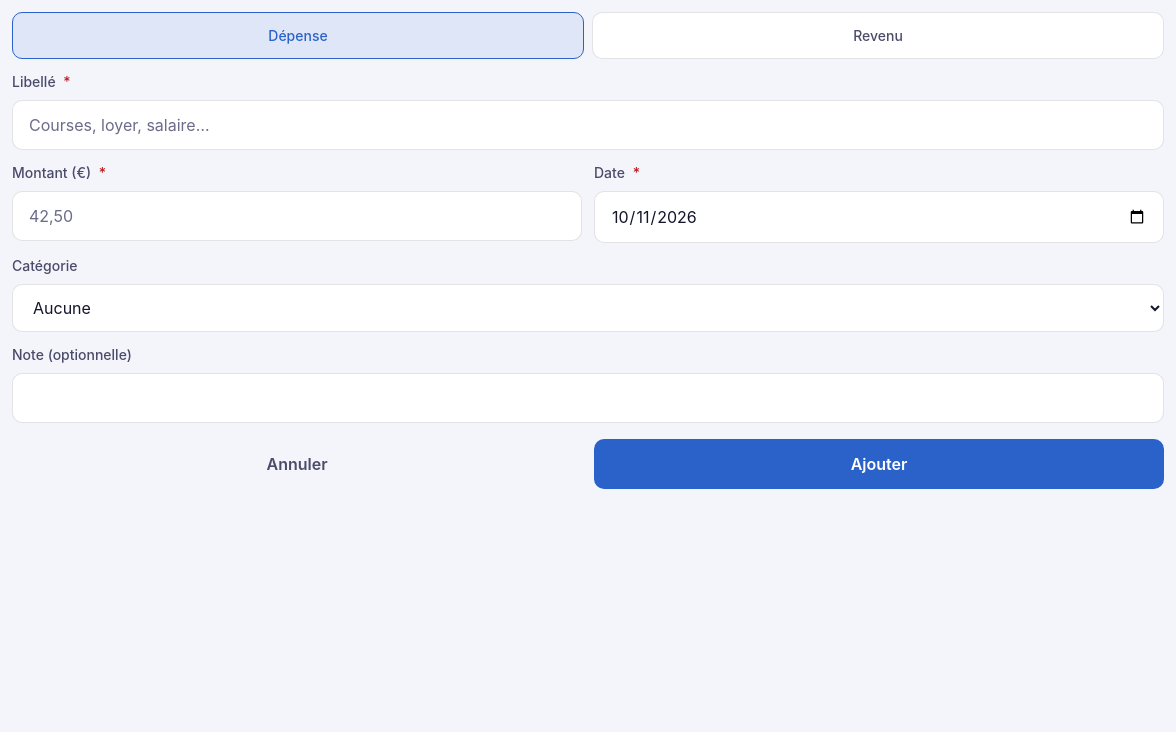
Scenario: TransactionForm — pas de date avant le mois de création du compte › refuse une date antérieure sans appeler l'API
This screenshot has width=1176, height=732.
Type "Courses" into the field with id "transaction-title".
click(588, 125); type("Courses")  # box [12,100,1164,150]
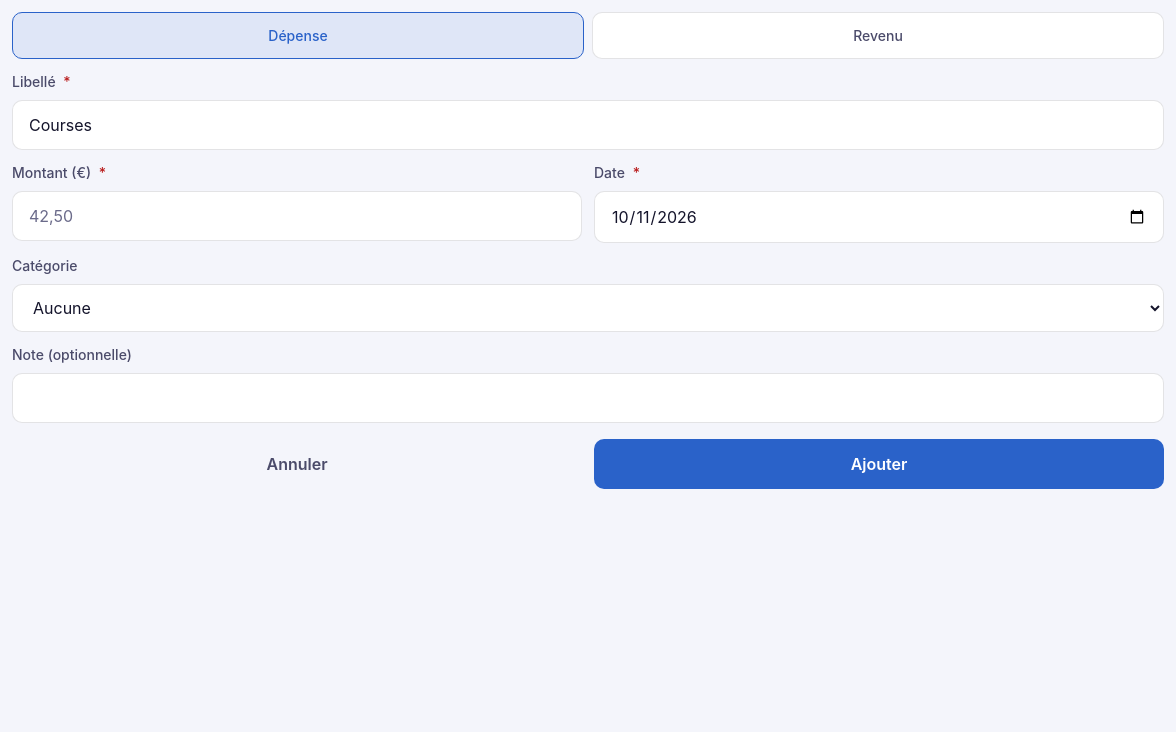
Type "12,50" into the field with id "transaction-amount".
click(297, 216); type("12,50")  # box [12,191,582,241]
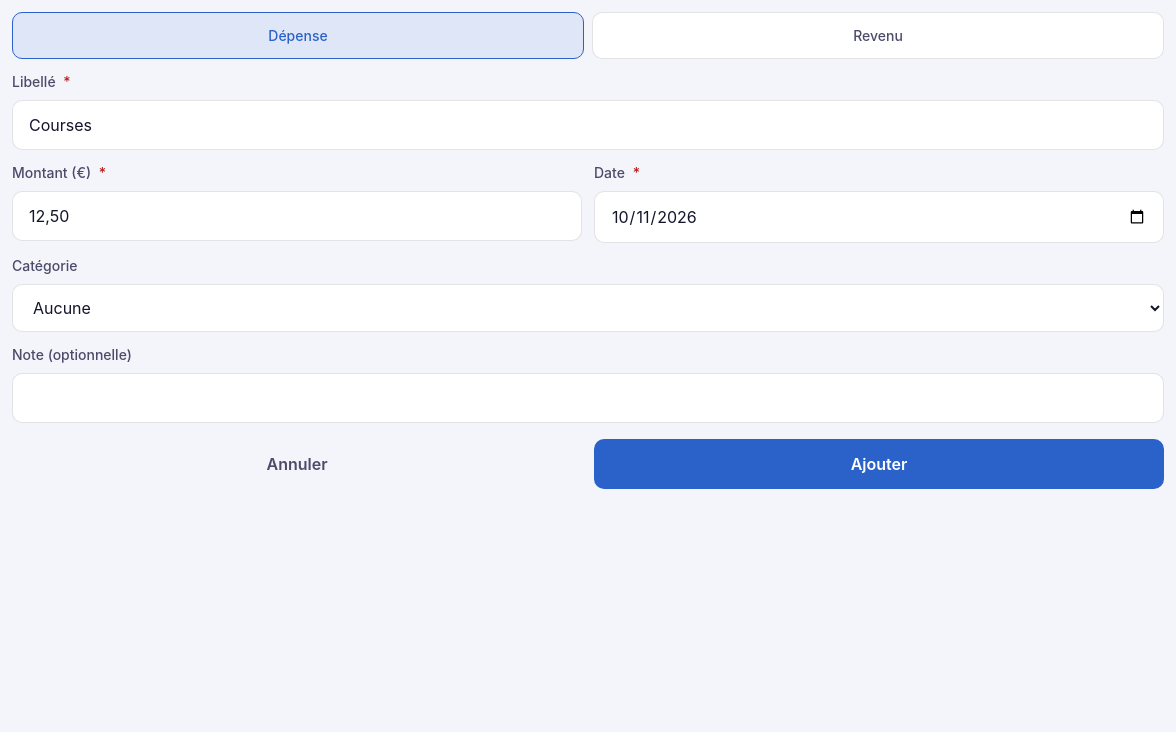
Type "2026-09-30" into the date field with id "transaction-date".
click(879, 217); type("2026-09-30")  # box [594,191,1164,243]
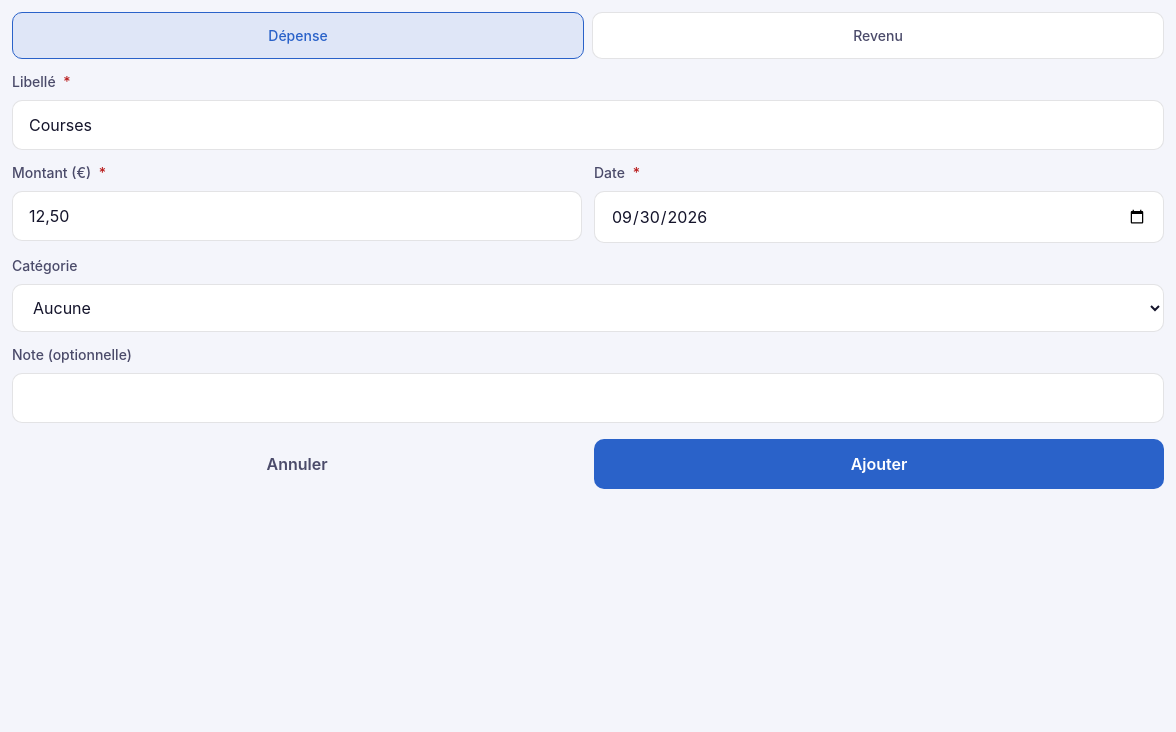
Submit the form
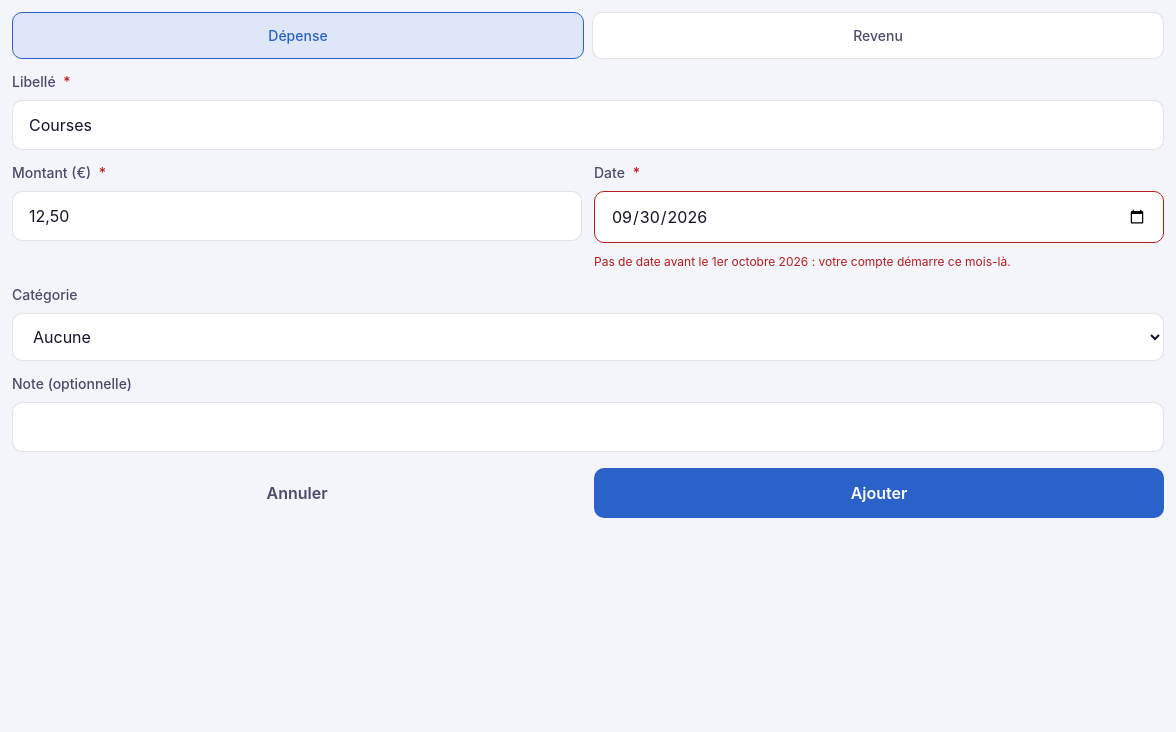
Now the text "Pas de date avant le 1er octobre 2026" is shown, box [594,254,1011,269]
